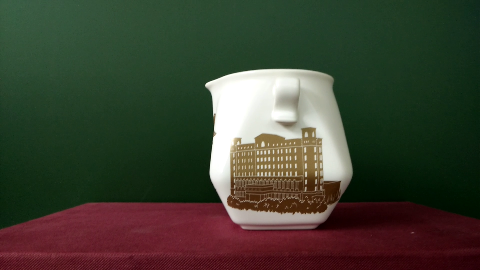law: (233, 140, 336, 209)
